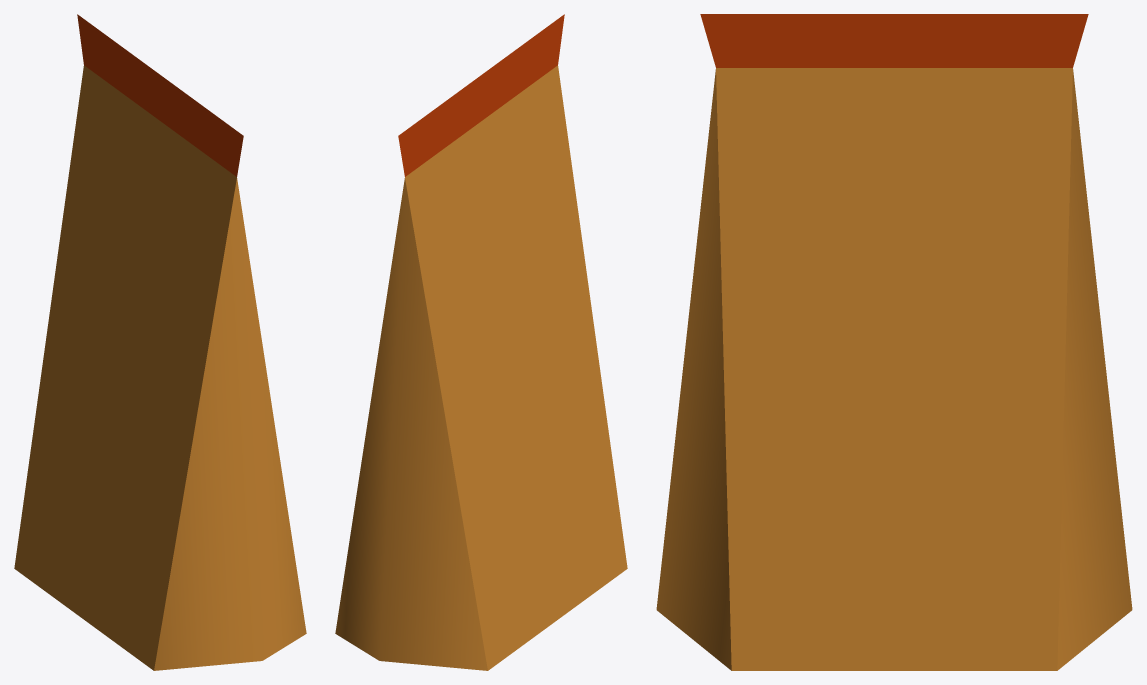
Rendered from Rations.fbx.
3 views of the same model, side by side, from view 1: azimuth 30°, elevation 25°; view 2: azimuth 150°, elevation 25°; view 3: azimuth 270°, elevation 25° (orthographic). The views are drawn at different scales.
Parts seen in each view (by area): view 1: Rations; view 2: Rations; view 3: Rations.
Part boxes in pixels (bbox=[...]): Rations: bbox=[14, 14, 306, 670]; Rations: bbox=[335, 14, 627, 670]; Rations: bbox=[656, 14, 1132, 670].
Size of the model in its own units: 26.04 by 85.78 by 60.32.
